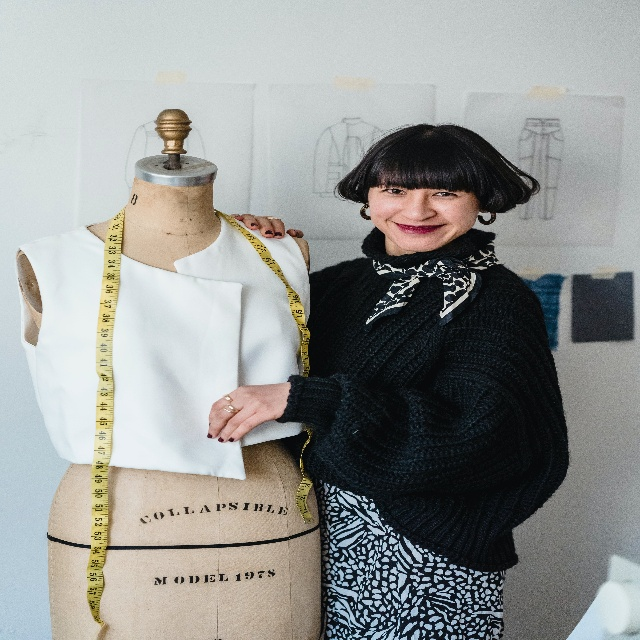Sin_guantes: (207, 381, 290, 443), (230, 213, 304, 240)
